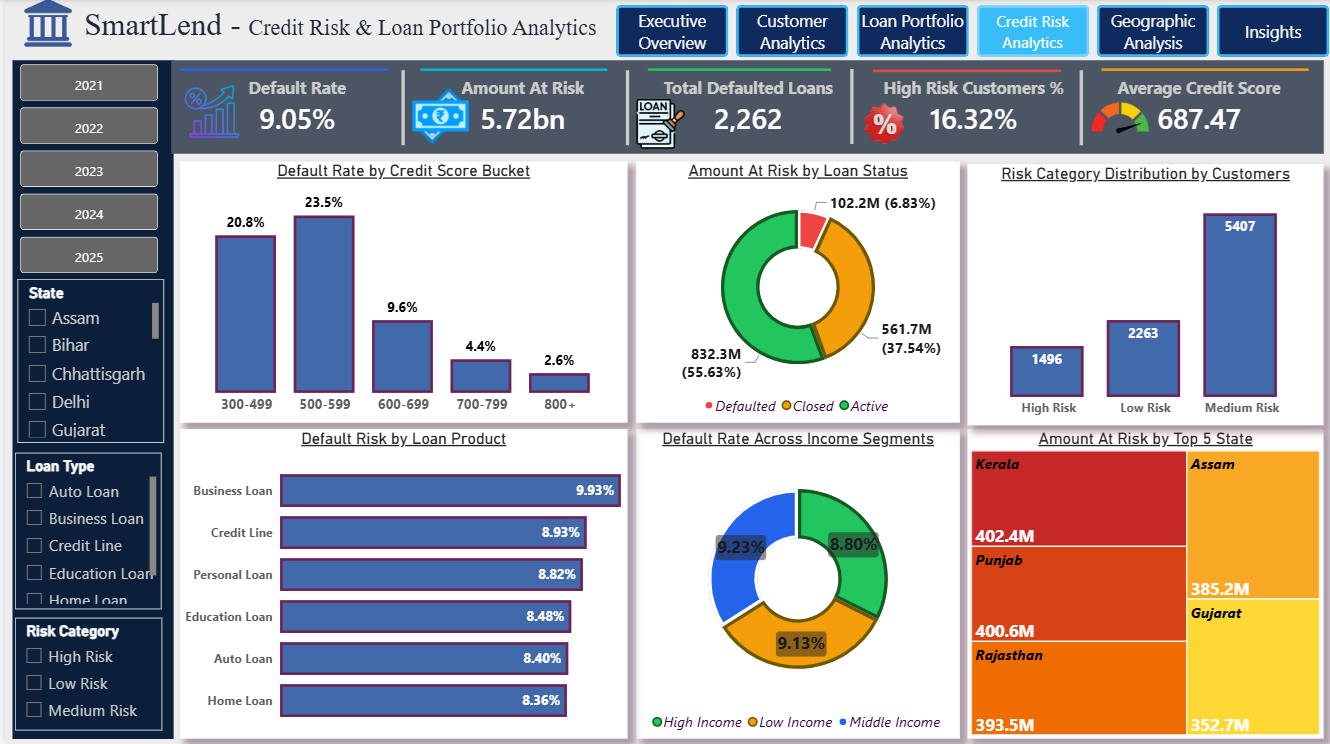

The dashboard page shown, as its layout file describes it:
{"tool":"powerbi","page":{"name":"Credit Risk Analytics","canvas":[1600,900],"ordinal":3},"visuals":[{"type":"shape","box":[9,73.9,194.5,818.9],"z":0},{"type":"shape","box":[200.6,73.9,1390.4,113.1],"z":1000},{"type":"cardVisual","fields":{"Data":["00_Measures.Default Rate","00_Measures.Amount At Risk","00_Measures.Total Defaulted Loans","00_Measures.High Risk Customers %","00_Measures.Average Credit Score"]},"box":[203.1,81.2,1387.5,96.9],"z":2000},{"type":"shape","box":[455.4,86,49.8,90.5],"z":3000},{"type":"donutChart","title":"Default Rate Across Income Segments","fields":{"Category":["SmartLend_Final_Analytics_Dataset.income_segment"],"Y":["00_Measures.Default Rate"]},"box":[761.6,518.8,390.6,374],"z":4000},{"type":"clusteredColumnChart","title":"Default Rate by Credit Score Bucket","fields":{"Category":["SmartLend_Final_Analytics_Dataset.Credit Score Bucket"],"Y":["00_Measures.Default Rate"]},"box":[211.1,196,539.9,315.2],"z":5000},{"type":"donutChart","title":"Amount At Risk by Loan Status","fields":{"Category":["SmartLend_Final_Analytics_Dataset.loan_status"],"Y":["00_Measures.Amount At Risk"]},"box":[761.6,196,390.6,315.2],"z":6000},{"type":"slicer","fields":{"Values":["SmartLend_Final_Analytics_Dataset.state"]},"box":[15.1,337.8,176.4,197.6],"z":7000},{"type":"slicer","fields":{"Values":["SmartLend_Final_Analytics_Dataset.risk_category"]},"box":[12.1,746.5,177.9,135.7],"z":8000},{"type":"slicer","fields":{"Values":["SmartLend_Final_Analytics_Dataset.loan_type"]},"box":[12.1,547.4,176.4,188.5],"z":9000},{"type":"shape","box":[1274.3,86,48.3,90.5],"z":10000},{"type":"shape","box":[996.8,84.5,49.8,90.5],"z":11000},{"type":"shape","box":[726.9,86,48.3,90.5],"z":12000},{"type":"image","box":[13.6,0,76.9,57.3],"z":13000},{"type":"image","box":[481.1,107.1,89,67.9],"z":14000},{"type":"image","box":[203.6,102.5,92,66.4],"z":15000},{"type":"image","box":[751,120.6,79.9,60.3],"z":16000},{"type":"image","box":[1007.4,102.5,107.1,96.5],"z":17000},{"type":"shape","box":[211.1,73.9,250.3,22.6],"z":18000},{"type":"shape","box":[500.7,73.9,226.2,22.6],"z":19000},{"type":"shape","box":[1046.6,75.4,227.7,22.6],"z":20000},{"type":"shape","box":[775.1,73.9,221.7,22.6],"z":21000},{"type":"shape","box":[1322.6,73.9,250.3,22.6],"z":22000},{"type":"clusteredBarChart","title":"Default Risk by Loan Product","fields":{"Y":["00_Measures.Default Rate"],"Category":["SmartLend_Final_Analytics_Dataset.loan_type"]},"box":[211.1,518.8,539.9,374],"z":23000},{"type":"treemap","title":"Amount At Risk by Top 5 State","fields":{"Group":["SmartLend_Final_Analytics_Dataset.state"],"Values":["00_Measures.Amount At Risk"]},"box":[1161.2,518.8,429.8,374],"z":24000},{"type":"columnChart","title":"Risk Category Distribution by Customers","fields":{"Category":["SmartLend_Final_Analytics_Dataset.risk_category"],"Y":["00_Measures.Totlal Customers"]},"box":[1161.2,199.1,429.8,315.2],"z":25000},{"type":"advancedSlicerVisual","fields":{"Values":["SmartLend_Final_Analytics_Dataset.loan_issue_date.Variation.Date Hierarchy.Year"]},"box":[13.6,73.9,176.4,263.9],"z":26000},{"type":"image","box":[1310.5,102.5,69.4,81.4],"z":27000},{"type":"textbox","box":[90.5,0,636.4,73.9],"z":28000},{"type":"pageNavigator","box":[737.4,7.5,862.6,62],"z":29000}]}

Visuals, with their boxes in screenshot pixels (x1, y1, x2, y2), scaled from the page's 1600x900 canvas onto the 1330x744 screenshot:
shape: [left=7, top=61, right=169, bottom=738]
shape: [left=167, top=61, right=1323, bottom=155]
cardVisual - 00_Measures.Default Rate x 00_Measures.Amount At Risk: [left=169, top=67, right=1322, bottom=147]
shape: [left=379, top=71, right=420, bottom=146]
"Default Rate Across Income Segments" donutChart: [left=633, top=429, right=958, bottom=738]
"Default Rate by Credit Score Bucket" clusteredColumnChart: [left=175, top=162, right=624, bottom=423]
"Amount At Risk by Loan Status" donutChart: [left=633, top=162, right=958, bottom=423]
slicer - SmartLend_Final_Analytics_Dataset.state: [left=13, top=279, right=159, bottom=443]
slicer - SmartLend_Final_Analytics_Dataset.risk_category: [left=10, top=617, right=158, bottom=729]
slicer - SmartLend_Final_Analytics_Dataset.loan_type: [left=10, top=453, right=157, bottom=608]
shape: [left=1059, top=71, right=1099, bottom=146]
shape: [left=829, top=70, right=870, bottom=145]
shape: [left=604, top=71, right=644, bottom=146]
image: [left=11, top=0, right=75, bottom=47]
image: [left=400, top=89, right=474, bottom=145]
image: [left=169, top=85, right=246, bottom=140]
image: [left=624, top=100, right=691, bottom=150]
image: [left=837, top=85, right=926, bottom=165]
shape: [left=175, top=61, right=384, bottom=80]
shape: [left=416, top=61, right=604, bottom=80]
shape: [left=870, top=62, right=1059, bottom=81]
shape: [left=644, top=61, right=829, bottom=80]
shape: [left=1099, top=61, right=1307, bottom=80]
"Default Risk by Loan Product" clusteredBarChart: [left=175, top=429, right=624, bottom=738]
"Amount At Risk by Top 5 State" treemap: [left=965, top=429, right=1323, bottom=738]
"Risk Category Distribution by Customers" columnChart: [left=965, top=165, right=1323, bottom=425]
advancedSlicerVisual - SmartLend_Final_Analytics_Dataset.loan_issue_date.Variation.Date Hierarchy.Year: [left=11, top=61, right=158, bottom=279]
image: [left=1089, top=85, right=1147, bottom=152]
textbox: [left=75, top=0, right=604, bottom=61]
pageNavigator: [left=613, top=6, right=1329, bottom=57]
